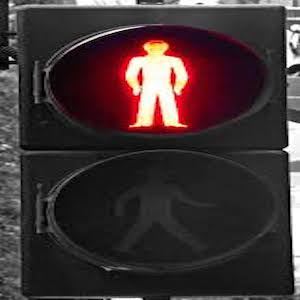red: (120, 37, 196, 132)
